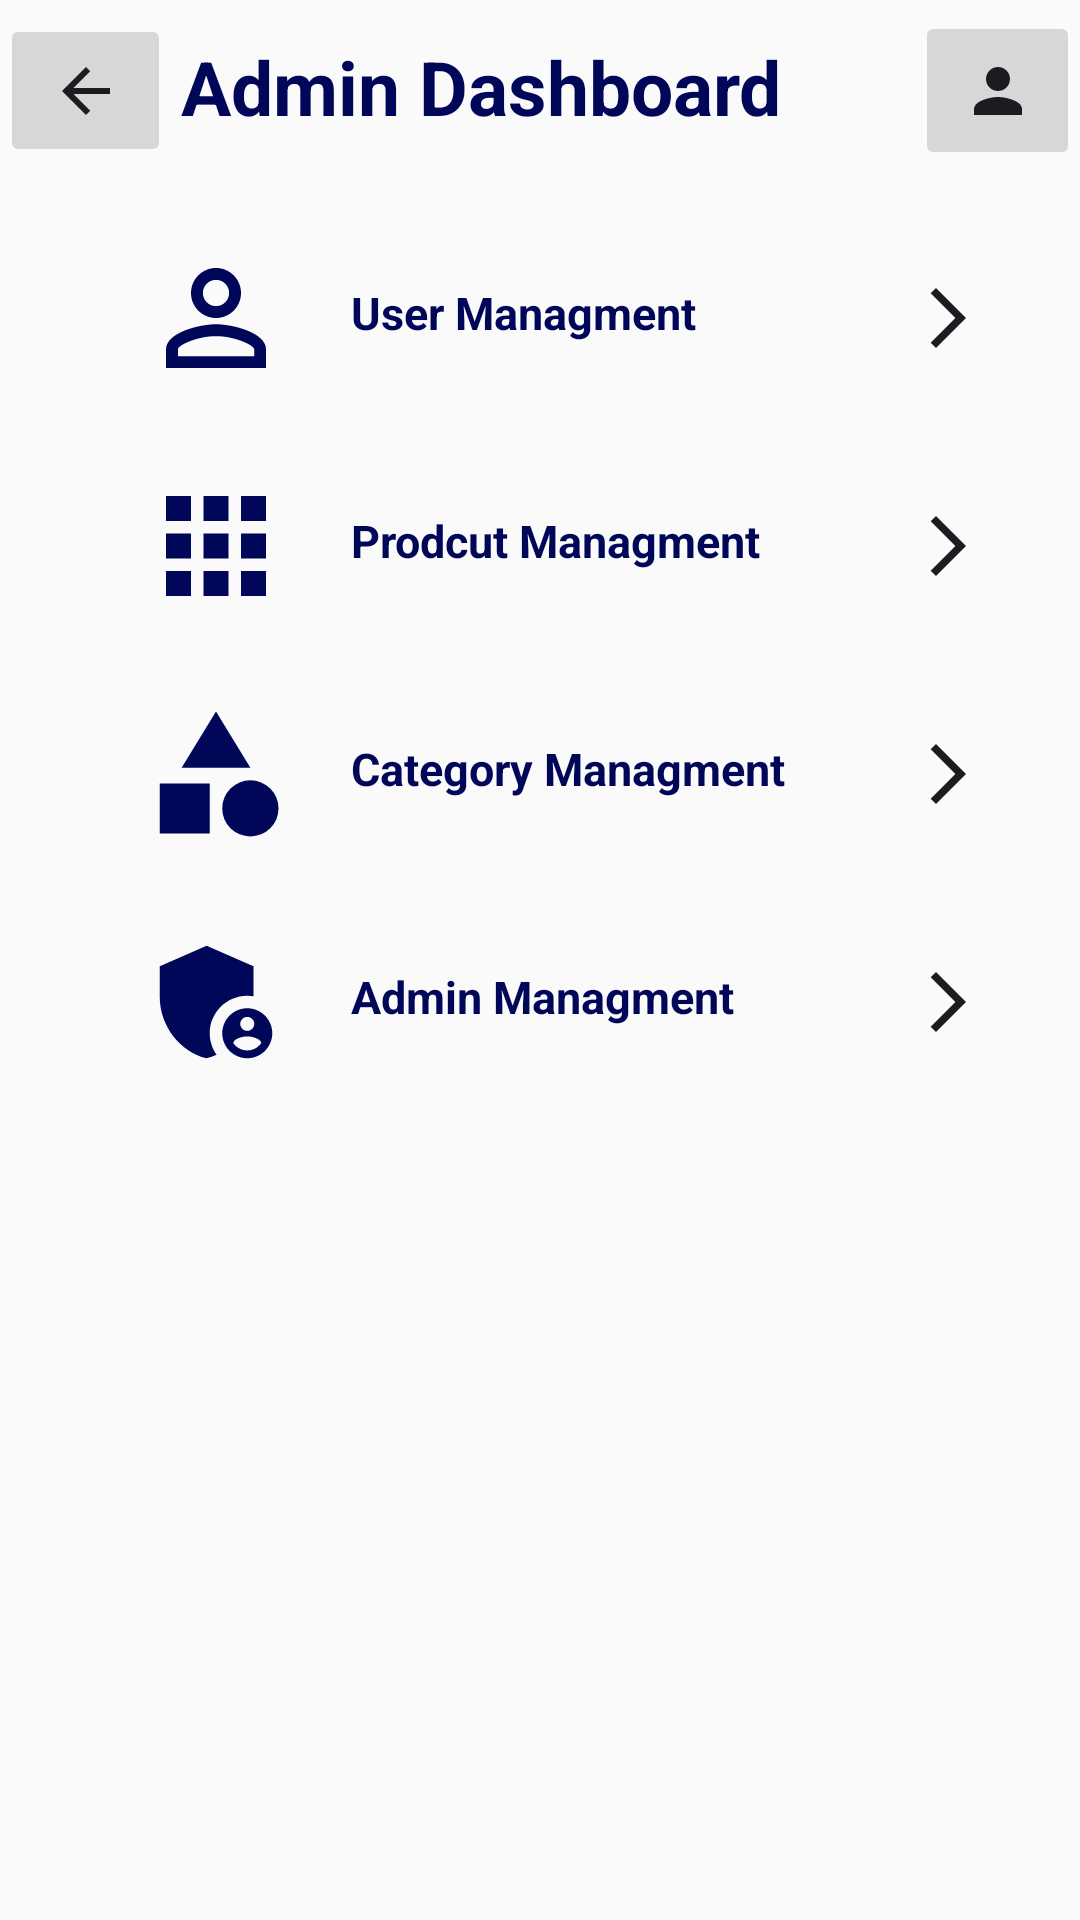

Icon click points for this 1080 × 1920 phone screenshot, format point (x, y):
Admin Back Button: point (85, 90)
admin management: point (216, 1002)
admin person: point (997, 90)
person user: point (216, 318)
